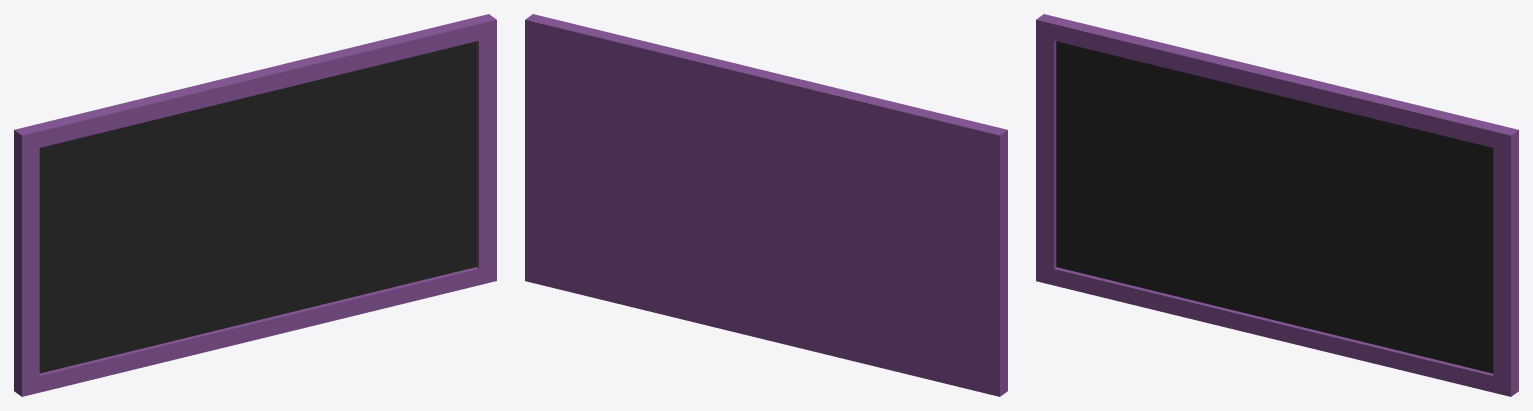
File: Itr_Obj_Monitor_LCD_Screen_Off_06.FBX
The picture shows the model from 3 angles, left to right: view 1: azimuth 30°, elevation 25°; view 2: azimuth 150°, elevation 25°; view 3: azimuth 330°, elevation 25°; orthographic projection.
Parts seen in each view (by area): view 1: Itr_Obj_Monitor_LCD_Screen_Off_06; view 2: Itr_Obj_Monitor_LCD_Screen_Off_06; view 3: Itr_Obj_Monitor_LCD_Screen_Off_06.
Boxes of the visible parts, box(x1,y1,x2,y2) form: Itr_Obj_Monitor_LCD_Screen_Off_06: box(14, 14, 496, 396); Itr_Obj_Monitor_LCD_Screen_Off_06: box(525, 14, 1007, 396); Itr_Obj_Monitor_LCD_Screen_Off_06: box(1036, 14, 1518, 396).
Size of the model in its own units: 66.79 by 35.13 by 1.92.
